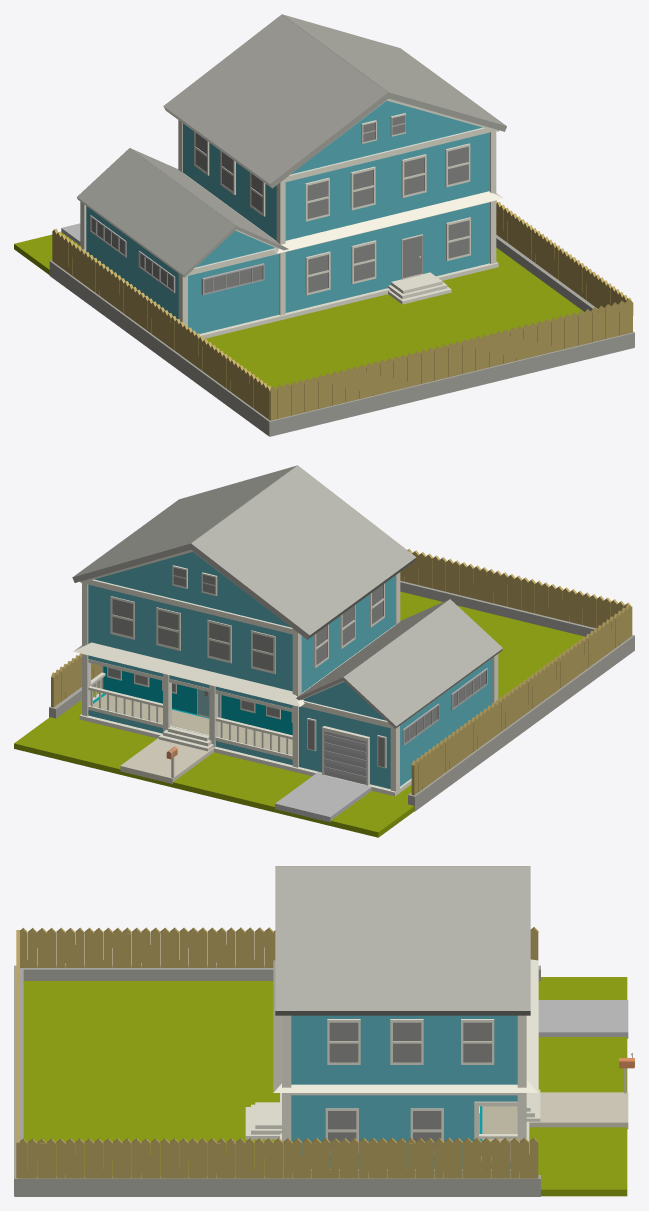
File: house7.fbx
The picture shows the model from 3 angles, top to bottom: view 1: azimuth 30°, elevation 25°; view 2: azimuth 150°, elevation 25°; view 3: azimuth 270°, elevation 25°; orthographic projection. The views are drawn at different scales.
Parts seen in each view (by area): view 1: Cube_27; view 2: Cube_27; view 3: Cube_27.
Boxes of the visible parts, x1=… form: Cube_27: x1=14, y1=14, x2=634, y2=436; Cube_27: x1=14, y1=465, x2=634, y2=837; Cube_27: x1=14, y1=866, x2=634, y2=1196.
Bounding box in the file's own units: 2228 × 1219 × 2738.
